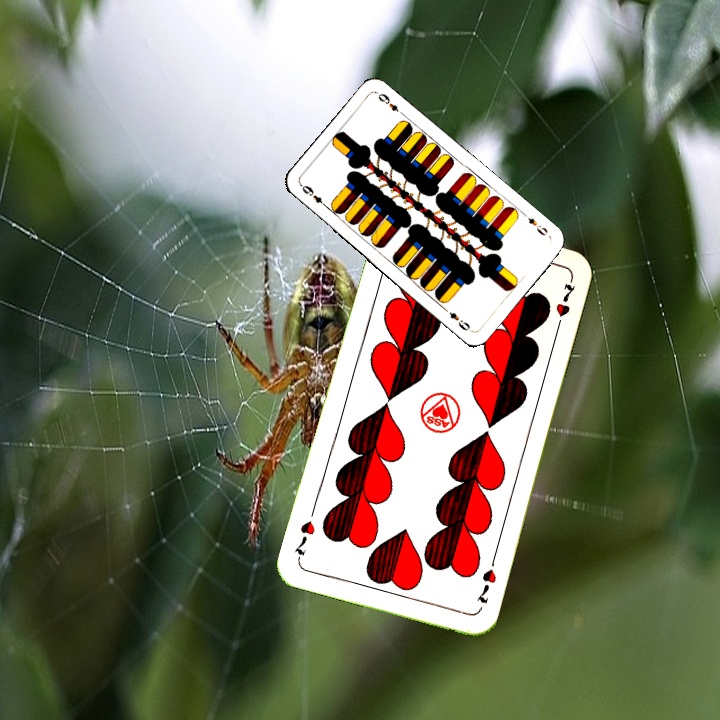E9: (297, 181, 331, 211), (524, 213, 551, 238)
H7: (472, 565, 499, 606)
